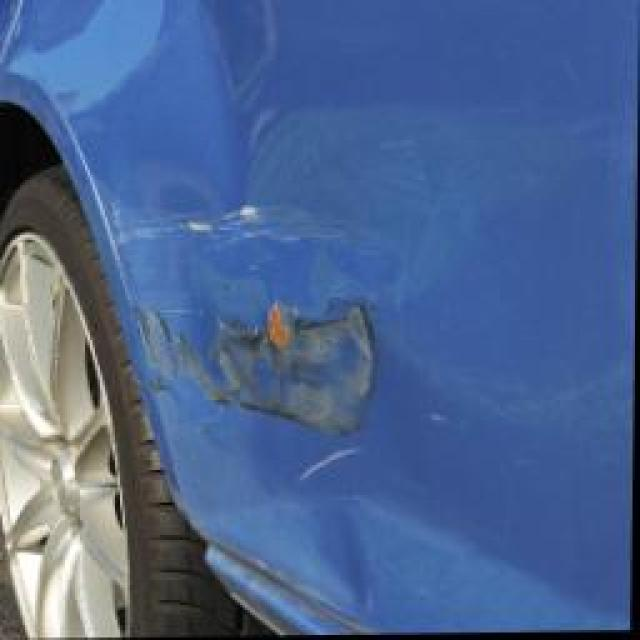Door: (120, 128, 412, 513)
